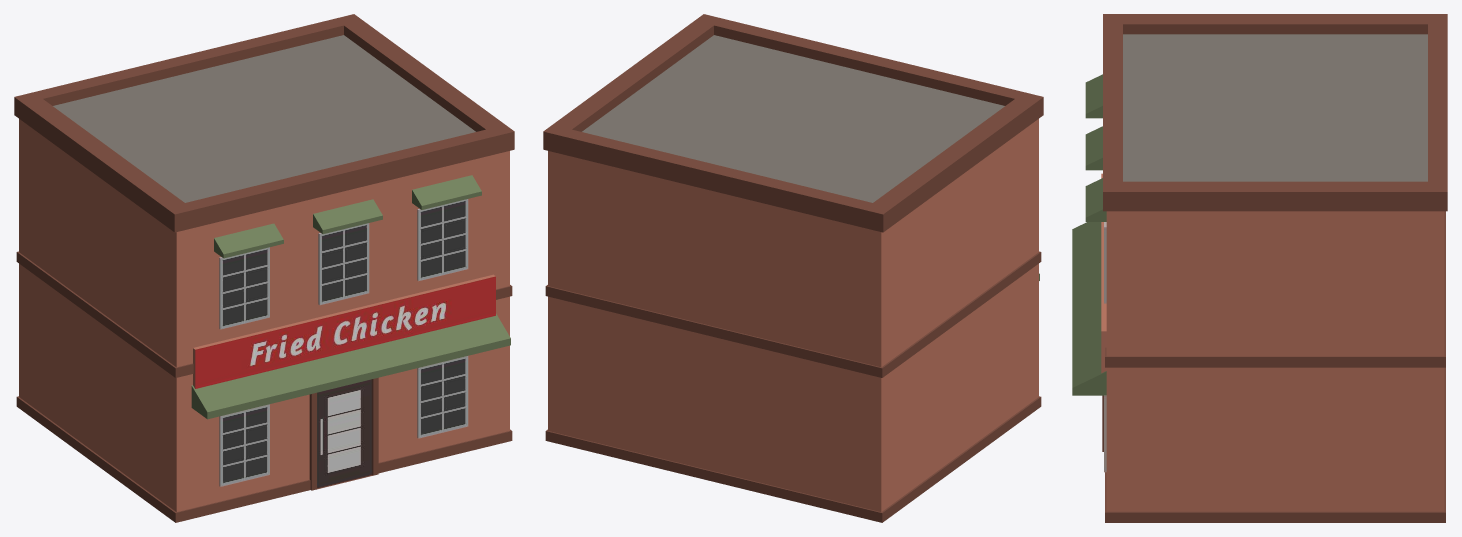
Rendered from Building_Chicken Shop.glb.
3 views of the same model, side by side, from view 1: azimuth 30°, elevation 25°; view 2: azimuth 150°, elevation 25°; view 3: azimuth 270°, elevation 25° (orthographic). The views are drawn at different scales.
Parts seen in each view (by area): view 1: Building_Chicken Shop; view 2: Building_Chicken Shop; view 3: Building_Chicken Shop.
Part boxes in pixels (x1=…): Building_Chicken Shop: x1=14, y1=14, x2=514, y2=522; Building_Chicken Shop: x1=543, y1=14, x2=1043, y2=522; Building_Chicken Shop: x1=1072, y1=14, x2=1447, y2=522.
Bounding box in the file's own units: 0.8975 × 0.7806 × 0.8.
Materials: 1 (1 with a texture image).
